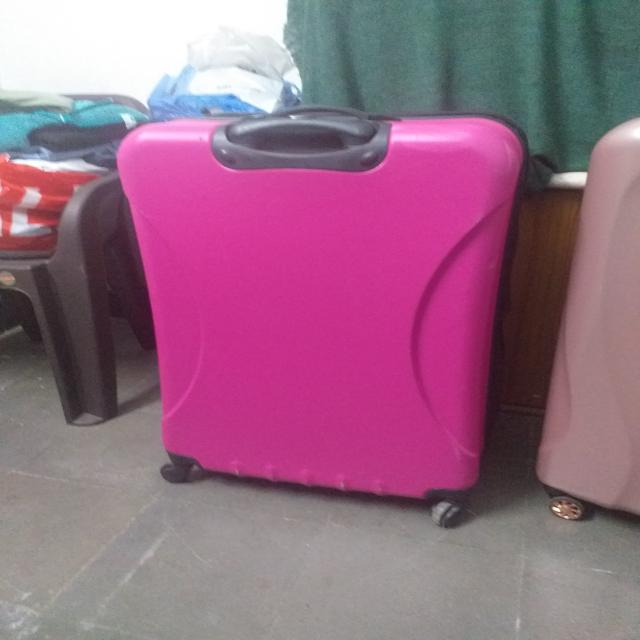suitcaserotation: (110, 101, 538, 532), (533, 112, 640, 521)
